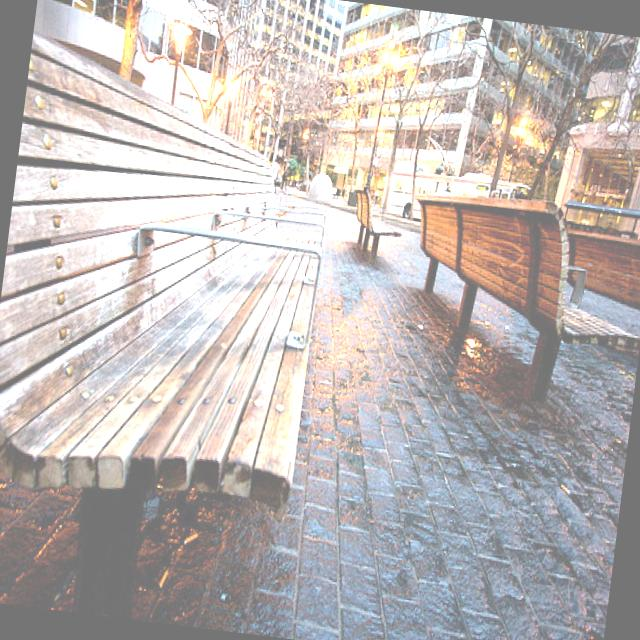Vehicle: (386, 160, 437, 218)
